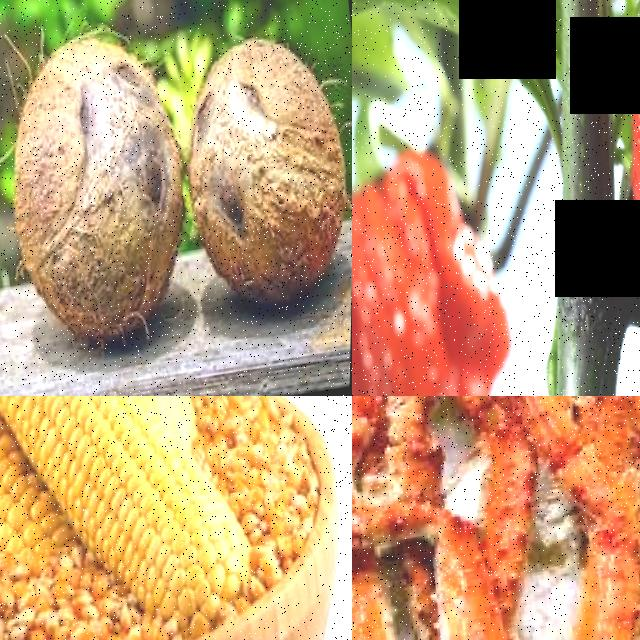coconut: (0, 28, 206, 357), (177, 20, 352, 322)
corn: (56, 396, 254, 630), (0, 396, 65, 577)
crab: (377, 396, 640, 640), (352, 396, 463, 640)
